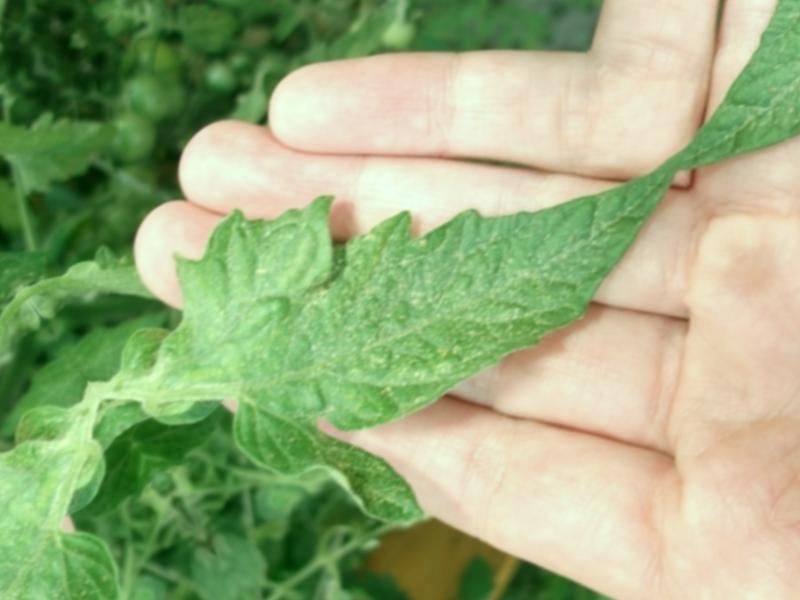Tomato mold leaf: (119, 10, 754, 600)
